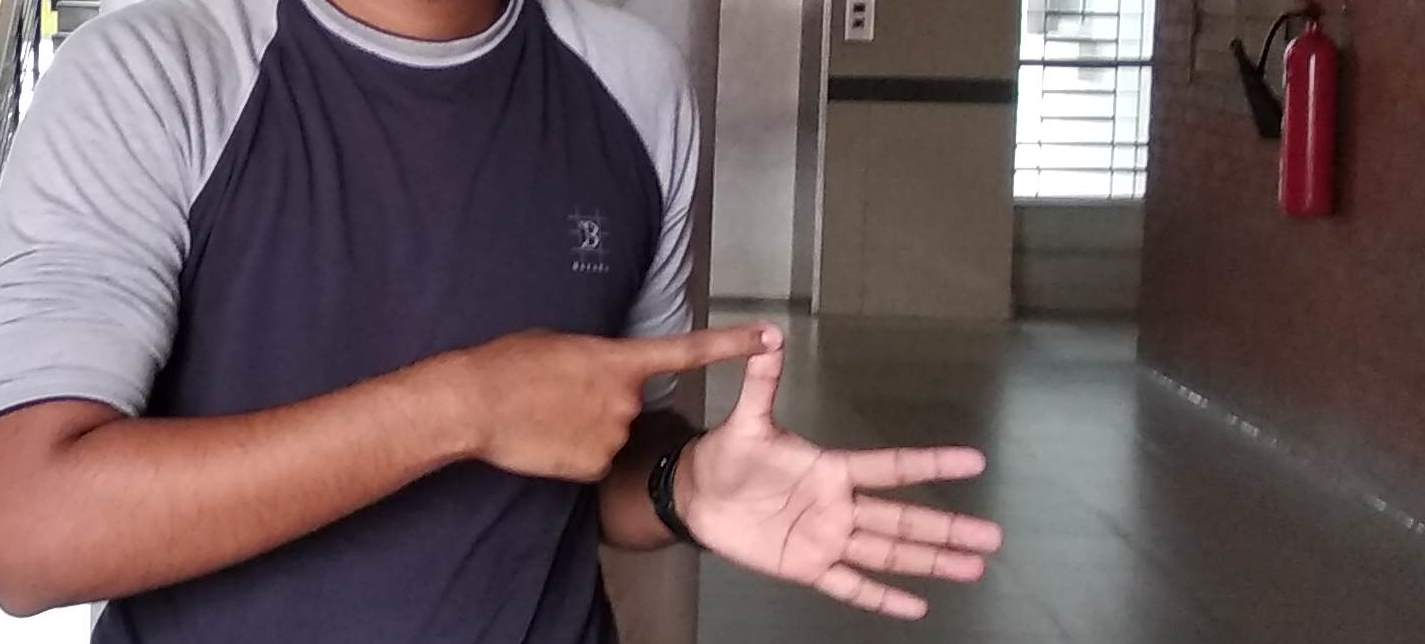a: (514, 308, 974, 639)
